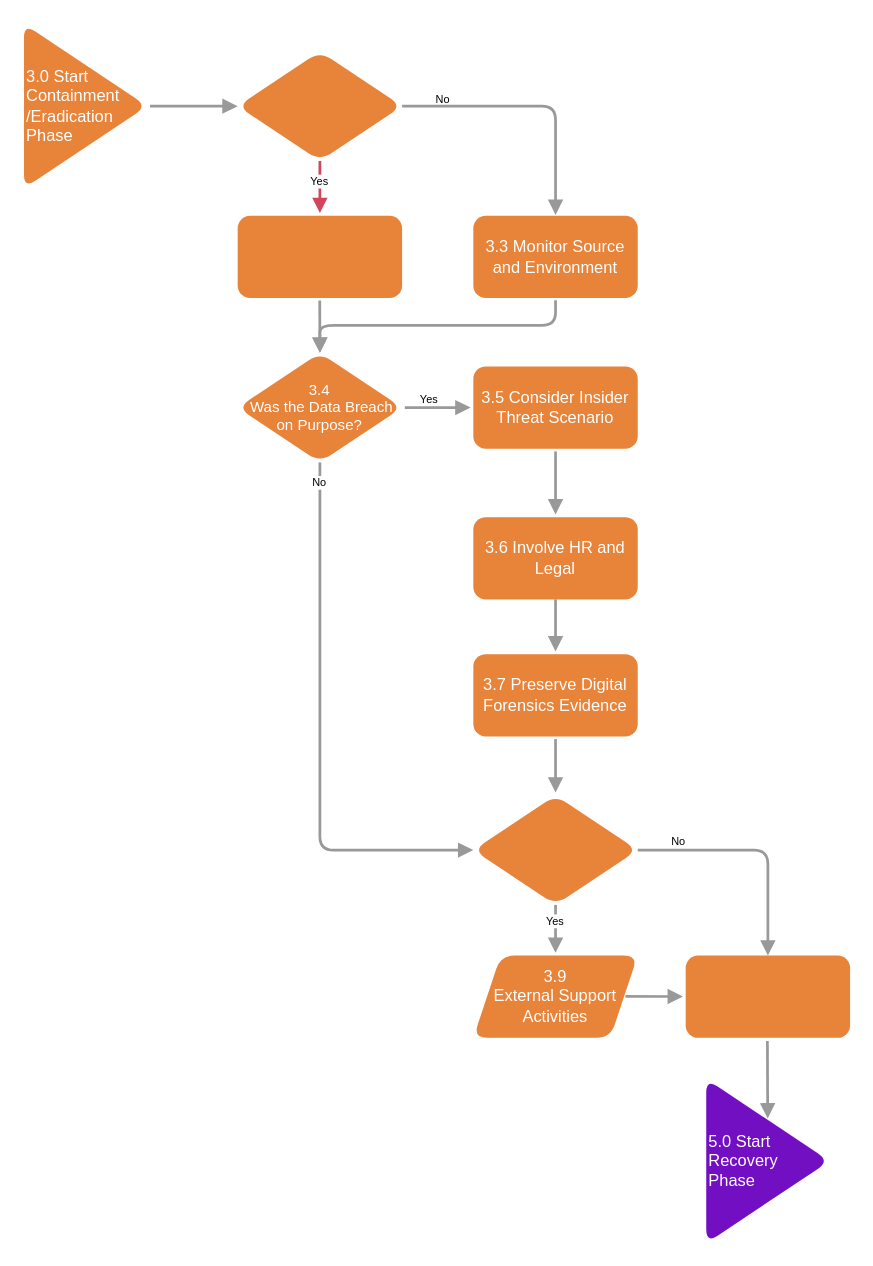
The diagram is 873 pixels wide and 1266 high, and some of its shapes have lost their labels. Each missing label, with the box of its shape:
3.1 Is Data Exfiltration ongoing?: (237, 51, 401, 160)
3.10 Restore Confidentiality: (685, 955, 849, 1037)
3.2 Block Connections: (237, 215, 401, 297)
3.8 Engage External Support: (473, 795, 637, 904)
